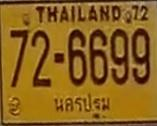2: (31, 30, 50, 89)
6: (88, 29, 108, 85), (67, 29, 86, 85)
7: (10, 30, 28, 87)
9: (130, 28, 150, 84), (110, 29, 128, 84)
NPT: (51, 92, 114, 120)
